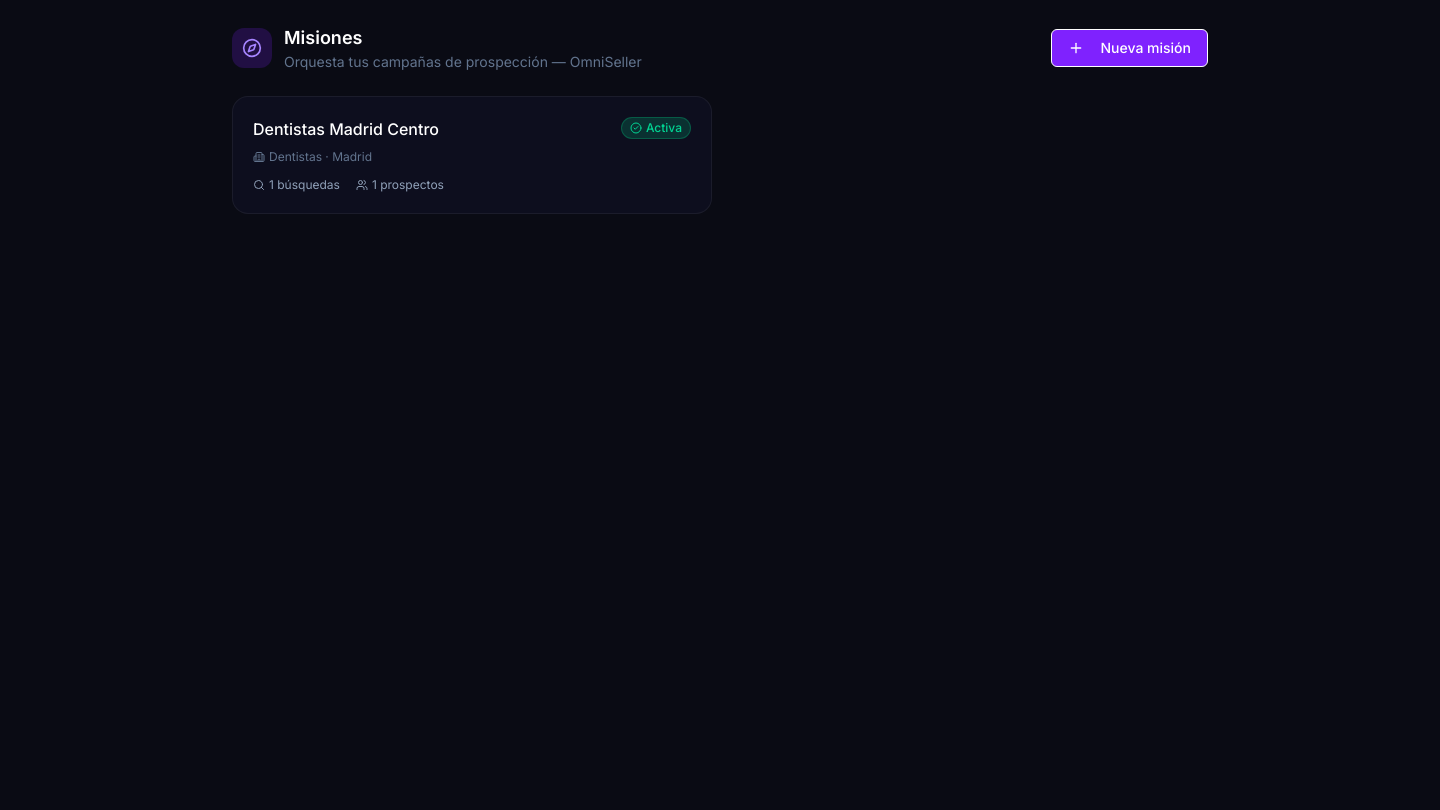
Test: Contact Finder › 12. error del proveedor muestra un mensaje limpio (sin detalle interno)
Click the text "Dentistas Madrid Centro": (346, 129) [253,117,439,141]
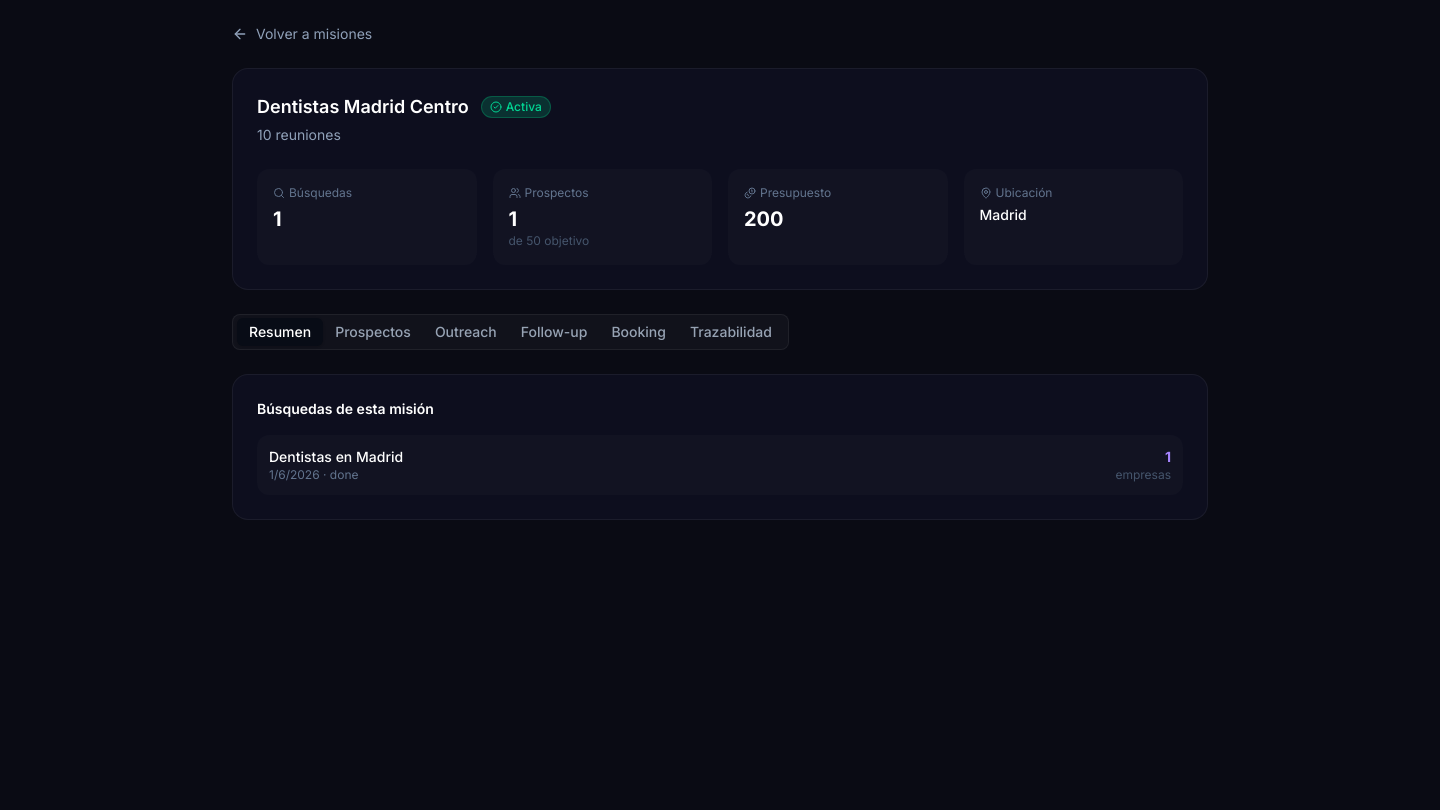
Expected: the heading "Búsquedas de esta misión" is shown, [257,400,434,417]
Press the mouse on the tab with test id "tab-prospectos": (373, 332) [323,318,423,346]
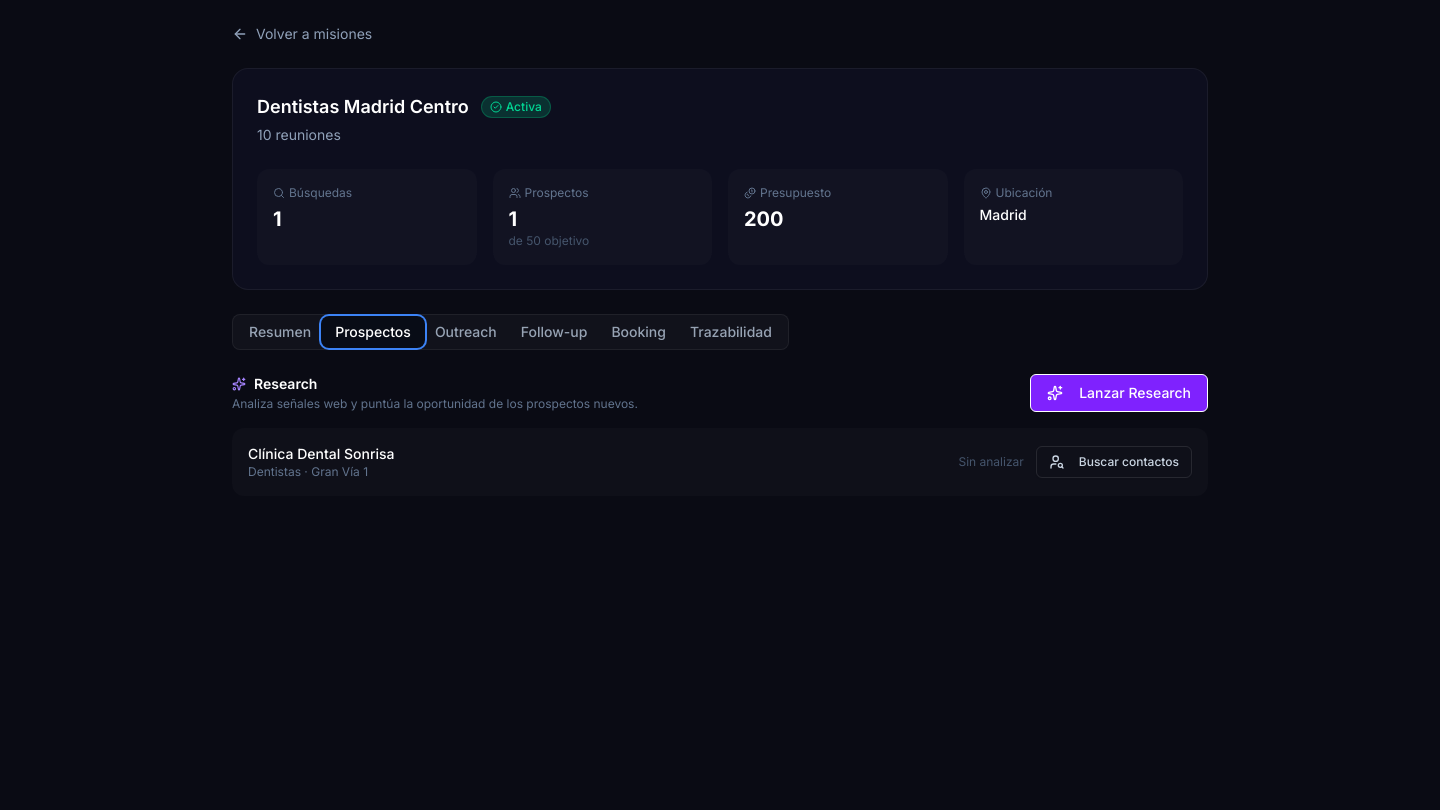
Expected: the text "Clínica Dental Sonrisa" is shown, [248,444,394,464]
Click the button with test id "find-contacts-100": (1114, 462) [1036,446,1192,478]
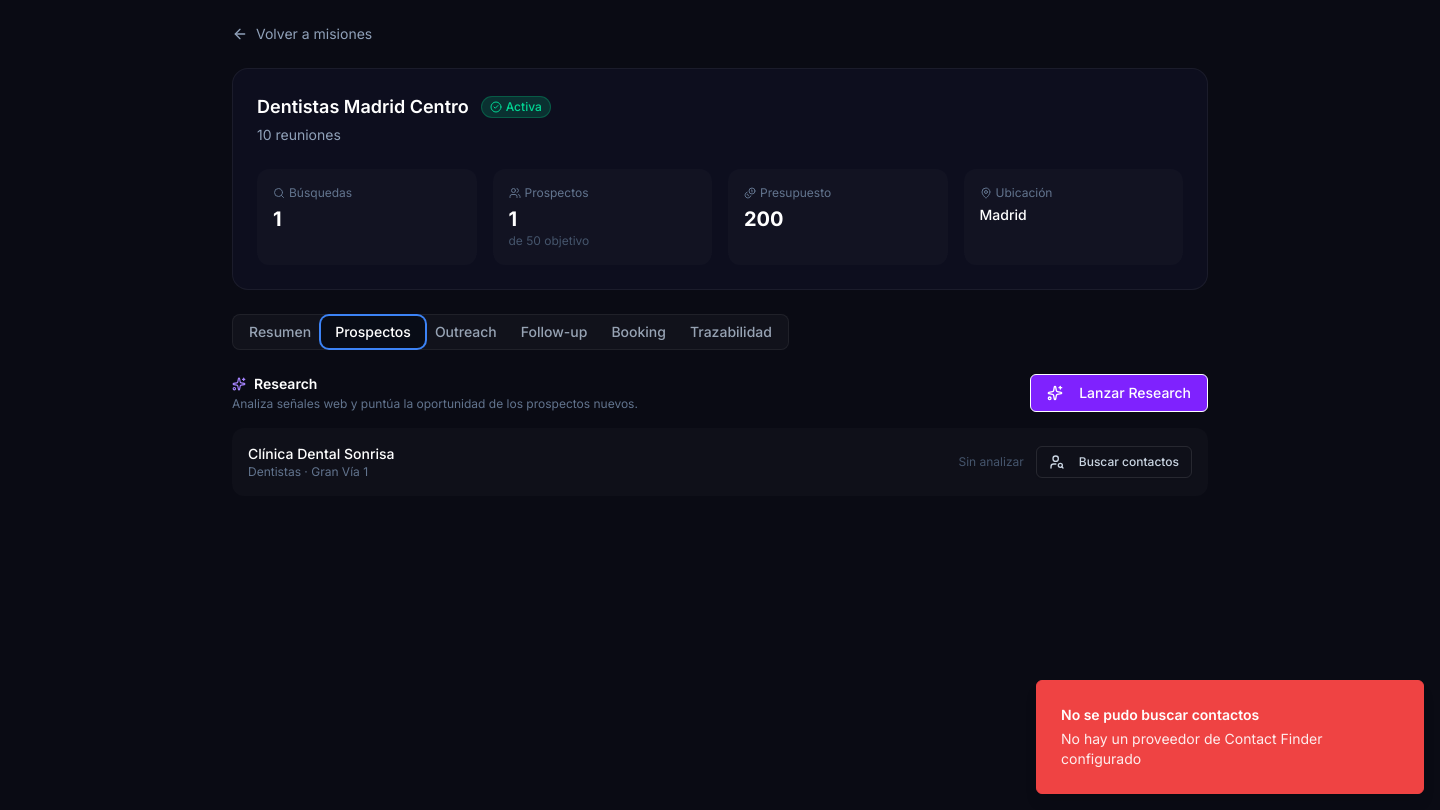
Expected: the text "No se pudo buscar contactos" is shown, [1061,706,1259,723]
